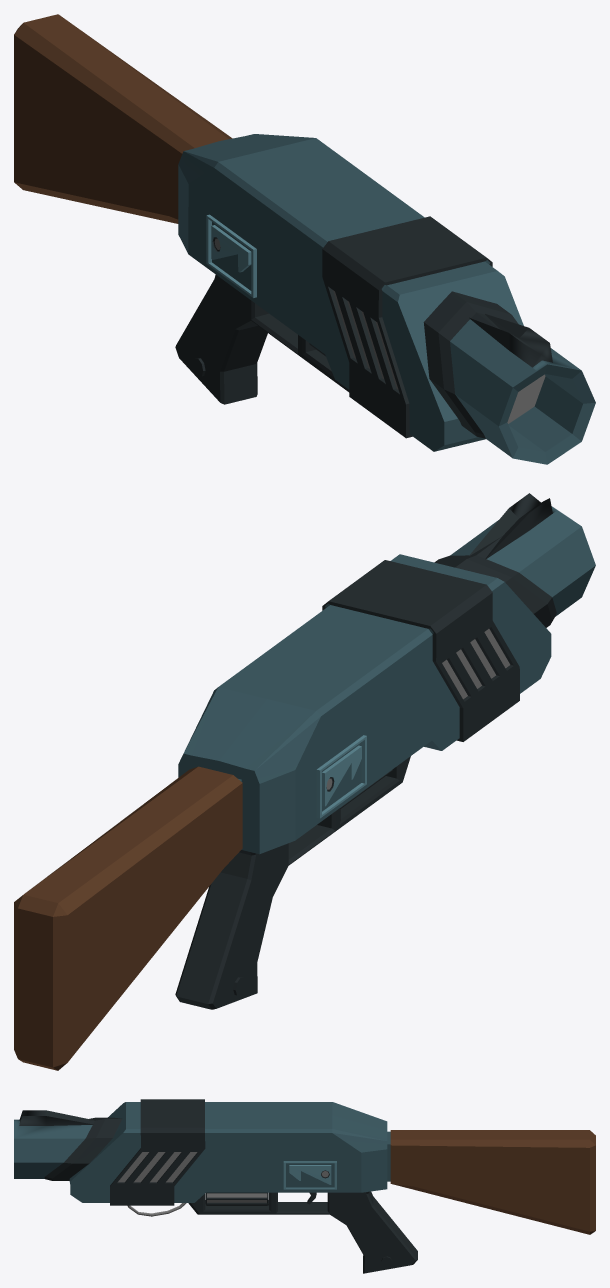
The model's file is Slug_Gun_V01.fbx.
3 views of the same model, one above another, from view 1: azimuth 30°, elevation 25°; view 2: azimuth 150°, elevation 25°; view 3: azimuth 270°, elevation 25° (orthographic). The views are drawn at different scales.
Visible parts, largest first — view 1: Weapon_Slug_Gun; view 2: Weapon_Slug_Gun; view 3: Weapon_Slug_Gun.
Boxes of the visible parts, x1,y1,x2,y2 form: Weapon_Slug_Gun: [14, 14, 595, 464]; Weapon_Slug_Gun: [14, 493, 595, 1070]; Weapon_Slug_Gun: [14, 1099, 595, 1273].
Bounding box in the file's own units: 7.98 × 18.37 × 62.12.
